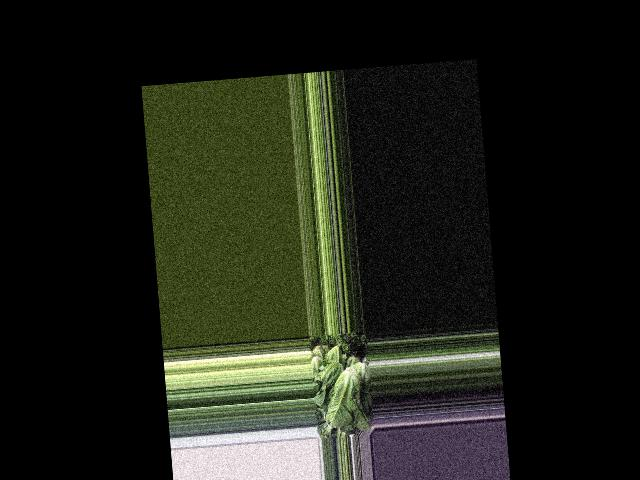lettuce: (313, 359, 345, 408)
